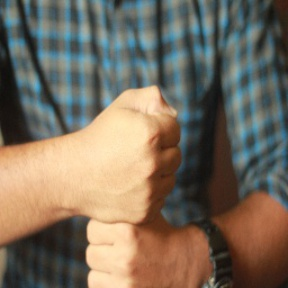G: (69, 86, 183, 288)
